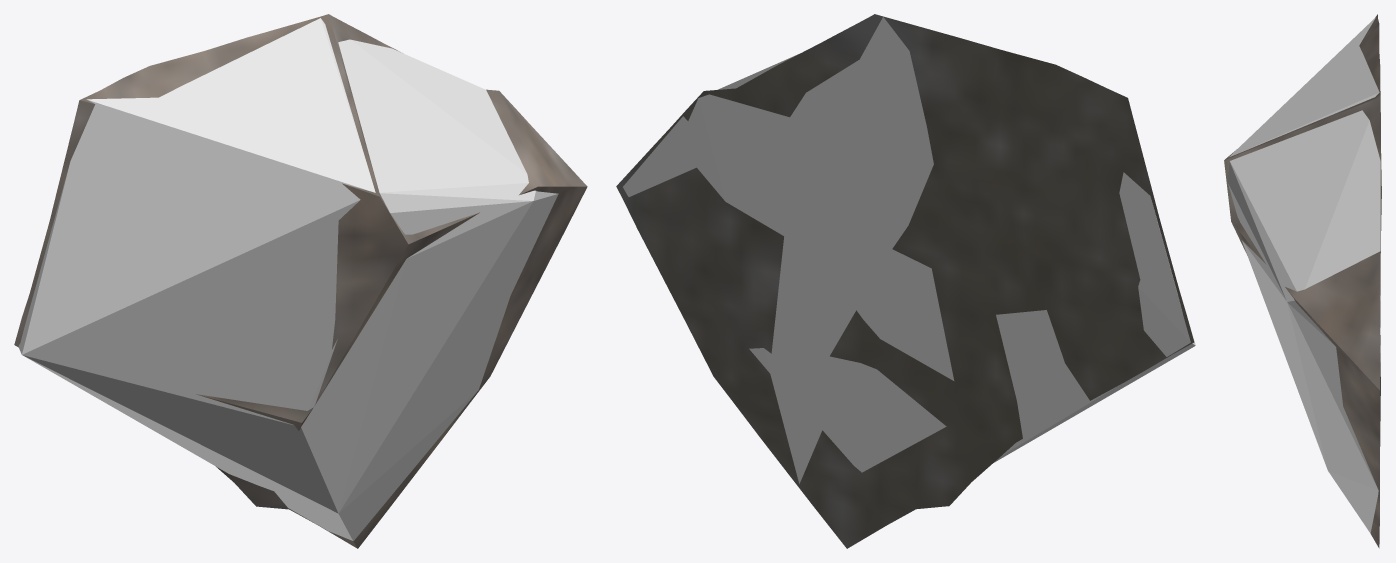
Rendered from SM_Rock_37.fbx.
3 renders of one model, left to right at view 1: azimuth 30°, elevation 25°; view 2: azimuth 150°, elevation 25°; view 3: azimuth 270°, elevation 25°, orthographic. The views are drawn at different scales.
Visible parts, largest first — view 1: SM_Rock_37_ConvexHulls, SM_Rock_37_LOD0; view 2: SM_Rock_37_LOD0, SM_Rock_37_ConvexHulls; view 3: SM_Rock_37_ConvexHulls, SM_Rock_37_LOD0.
Boxes of the visible parts, <box> form: SM_Rock_37_ConvexHulls: <box>18,18,558,540</box>; SM_Rock_37_LOD0: <box>14,14,587,548</box>; SM_Rock_37_LOD0: <box>616,14,1194,548</box>; SM_Rock_37_ConvexHulls: <box>623,17,1195,483</box>; SM_Rock_37_ConvexHulls: <box>1228,17,1380,533</box>; SM_Rock_37_LOD0: <box>1224,14,1381,548</box>.
Bounding box in the file's own units: 25.19 × 7.32 × 22.66.
